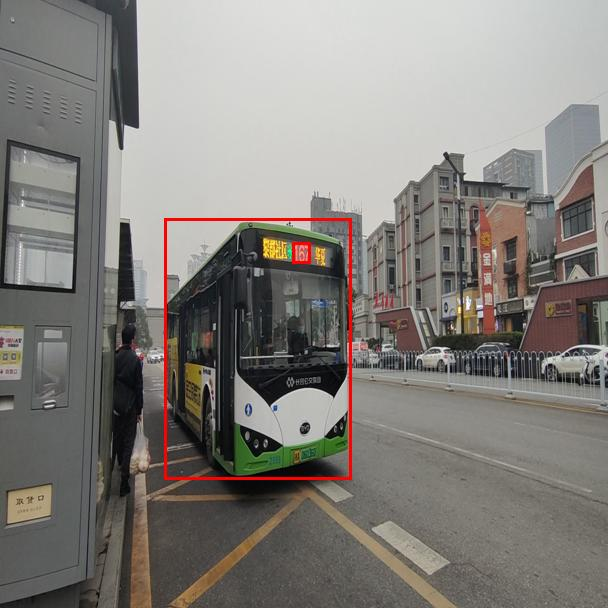bus: (164, 218, 351, 479)
screen: (292, 242, 310, 263)
